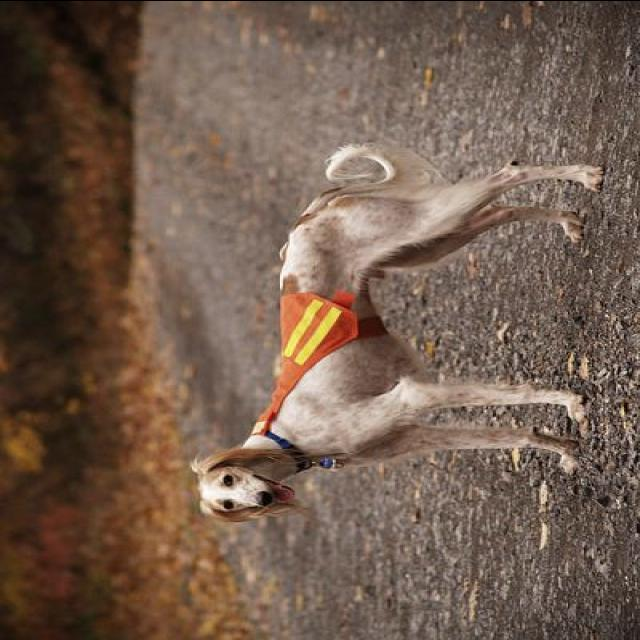saluki: (187, 146, 603, 524)
